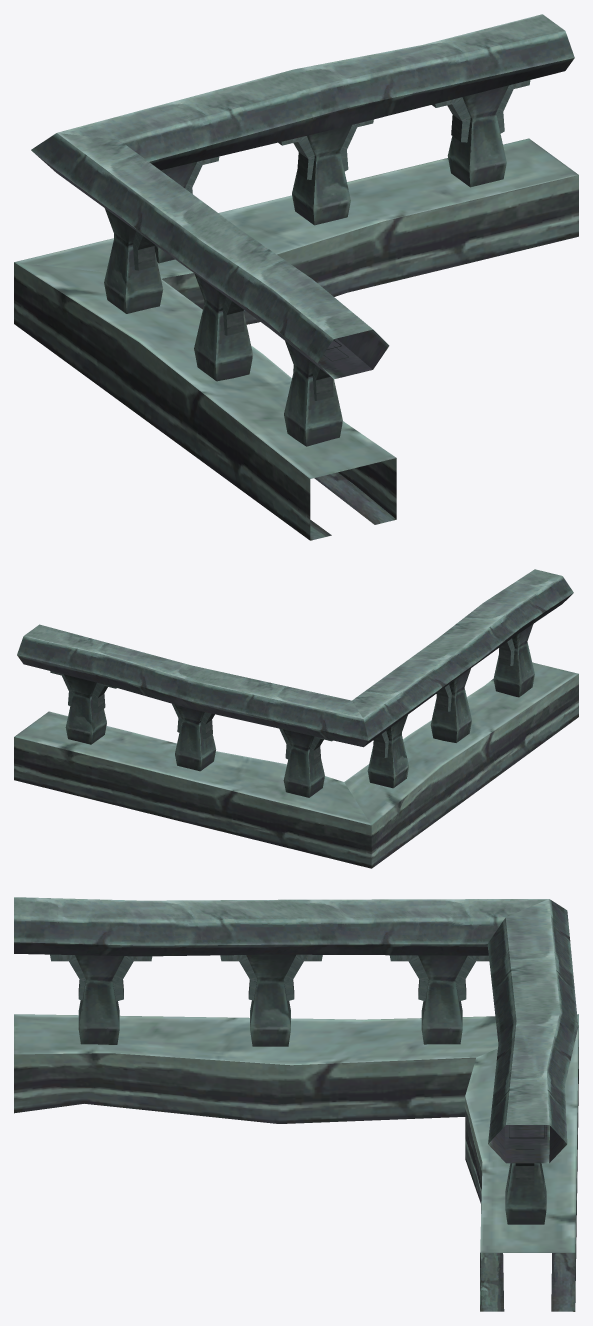
Rendered from crypt_railing_concave_01.fbx.
3 renders of one model, top to bottom at view 1: azimuth 30°, elevation 25°; view 2: azimuth 150°, elevation 25°; view 3: azimuth 270°, elevation 25°, orthographic. The views are drawn at different scales.
Parts seen in each view (by area): view 1: crypt_railing_concave_01-0; view 2: crypt_railing_concave_01-0; view 3: crypt_railing_concave_01-0.
Part boxes in pixels (bbox=[...]): crypt_railing_concave_01-0: bbox=[14, 14, 578, 540]; crypt_railing_concave_01-0: bbox=[14, 569, 578, 868]; crypt_railing_concave_01-0: bbox=[14, 897, 578, 1311].
Size of the model in its own units: 4.4 by 1.65 by 4.4.
